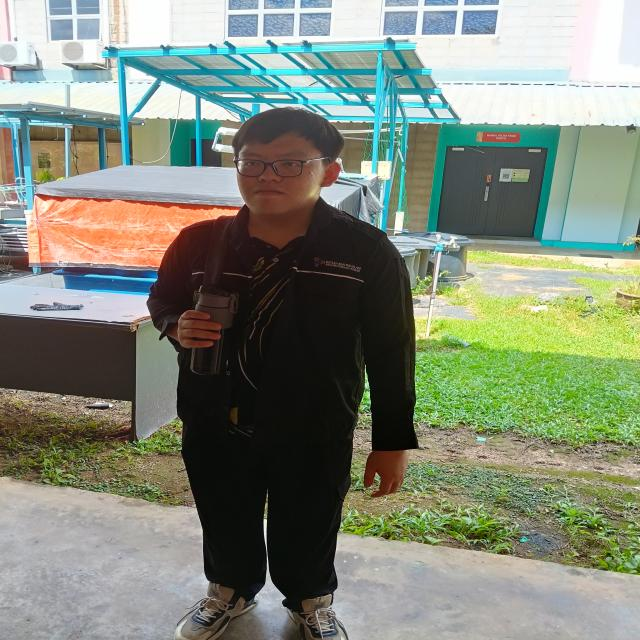person_with_labcoat: (149, 108, 417, 640)
